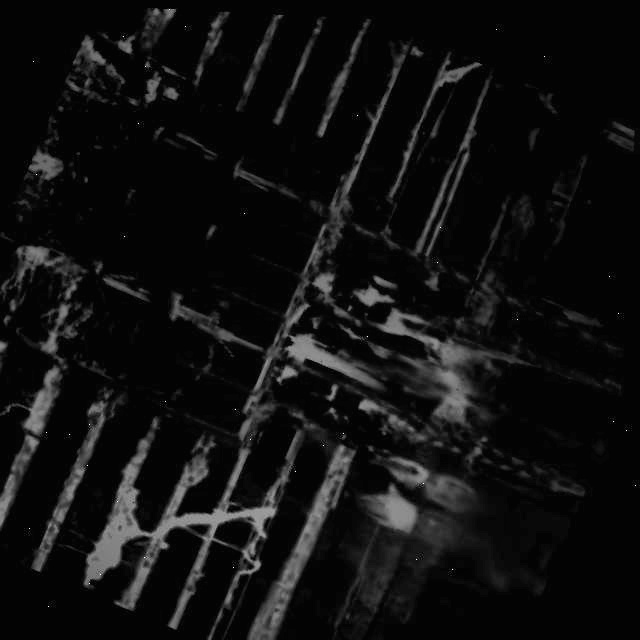Fire: (274, 262, 537, 442)
